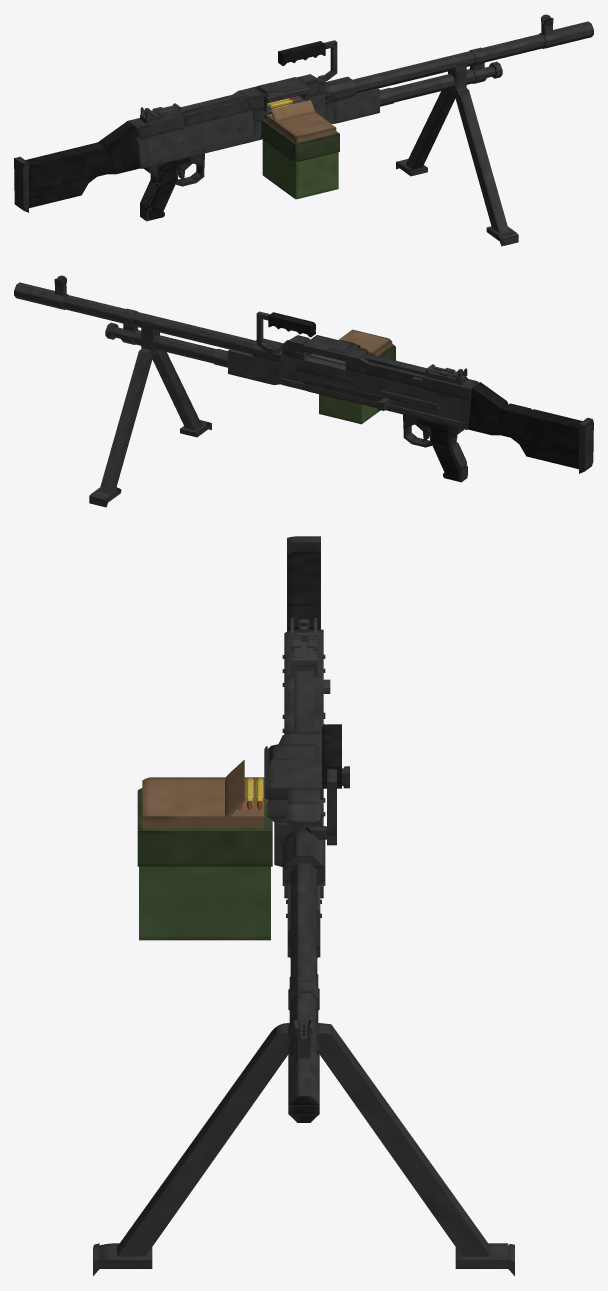
The picture shows the model from 3 angles, top to bottom: view 1: azimuth 30°, elevation 25°; view 2: azimuth 150°, elevation 25°; view 3: azimuth 270°, elevation 25°; orthographic projection. The views are drawn at different scales.
Parts seen in each view (by area): view 1: ammoModel0, gunModel0, gunModel182, gunModel133, gunModel24, ammoModel3, gunModel183, gunModel127, ammoModel1, gunModel3, gunModel128, gunModel25 (+19 smaller); view 2: gunModel183, gunModel0, gunModel133, gunModel24, gunModel182, gunModel127, gunModel51, gunModel3, ammoModel0, gunModel128, gunModel8, gunModel25 (+19 smaller); view 3: ammoModel0, gunModel183, gunModel182, ammoModel3, ammoModel1, gunModel24, gunModel133, gunModel5, gunModel28, gunModel40, gunModel11, gunModel9 (+4 smaller).
Boxes of the visible parts, x1,y1,x2,y2 form: ammoModel0: [262, 139, 338, 199]; gunModel0: [137, 108, 254, 168]; gunModel182: [454, 87, 508, 236]; gunModel133: [20, 148, 82, 193]; gunModel24: [352, 34, 545, 87]; ammoModel3: [261, 119, 339, 162]; gunModel183: [405, 89, 455, 172]; gunModel127: [98, 121, 139, 174]; ammoModel1: [266, 112, 336, 146]; gunModel3: [334, 88, 379, 123]; gunModel128: [74, 142, 114, 180]; gunModel25: [355, 41, 547, 91]; gunModel183: [99, 348, 153, 493]; gunModel0: [353, 371, 469, 420]; gunModel133: [525, 409, 582, 454]; gunModel24: [63, 295, 255, 348]; gunModel182: [152, 350, 202, 430]; gunModel127: [468, 382, 508, 435]; gunModel51: [281, 378, 468, 429]; gunModel3: [228, 349, 273, 384]; ammoModel0: [319, 394, 380, 424]; gunModel128: [493, 403, 532, 441]; gunModel8: [282, 354, 353, 389]; gunModel25: [63, 302, 252, 352]; ammoModel0: [139, 866, 270, 940]; gunModel183: [318, 1023, 490, 1256]; gunModel182: [117, 1023, 289, 1256]; ammoModel3: [137, 788, 272, 866]; ammoModel1: [142, 777, 264, 828]; gunModel24: [290, 863, 317, 1054]; gunModel133: [287, 551, 320, 606]; gunModel5: [267, 746, 323, 799]; gunModel28: [288, 1049, 319, 1104]; gunModel40: [282, 829, 325, 867]; gunModel11: [294, 669, 313, 731]; gunModel9: [284, 675, 323, 731].
Bounding box in the file's own units: 40.05 × 12.65 × 12.8.
